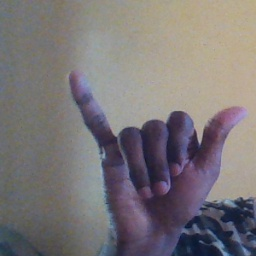J: (64, 67, 248, 239)
